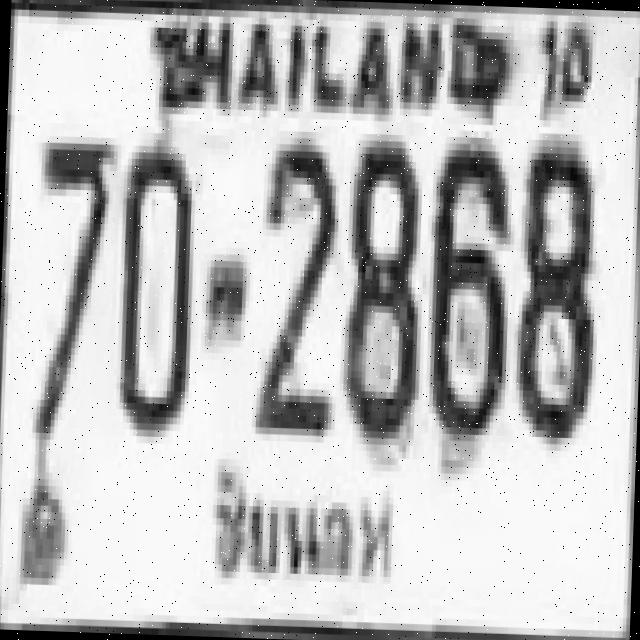0: (115, 134, 194, 428)
2: (254, 130, 336, 429)
6: (424, 136, 509, 448)
7: (30, 132, 112, 432)
8: (339, 132, 422, 438), (511, 136, 596, 434)
ChaiNat: (190, 447, 404, 602)
